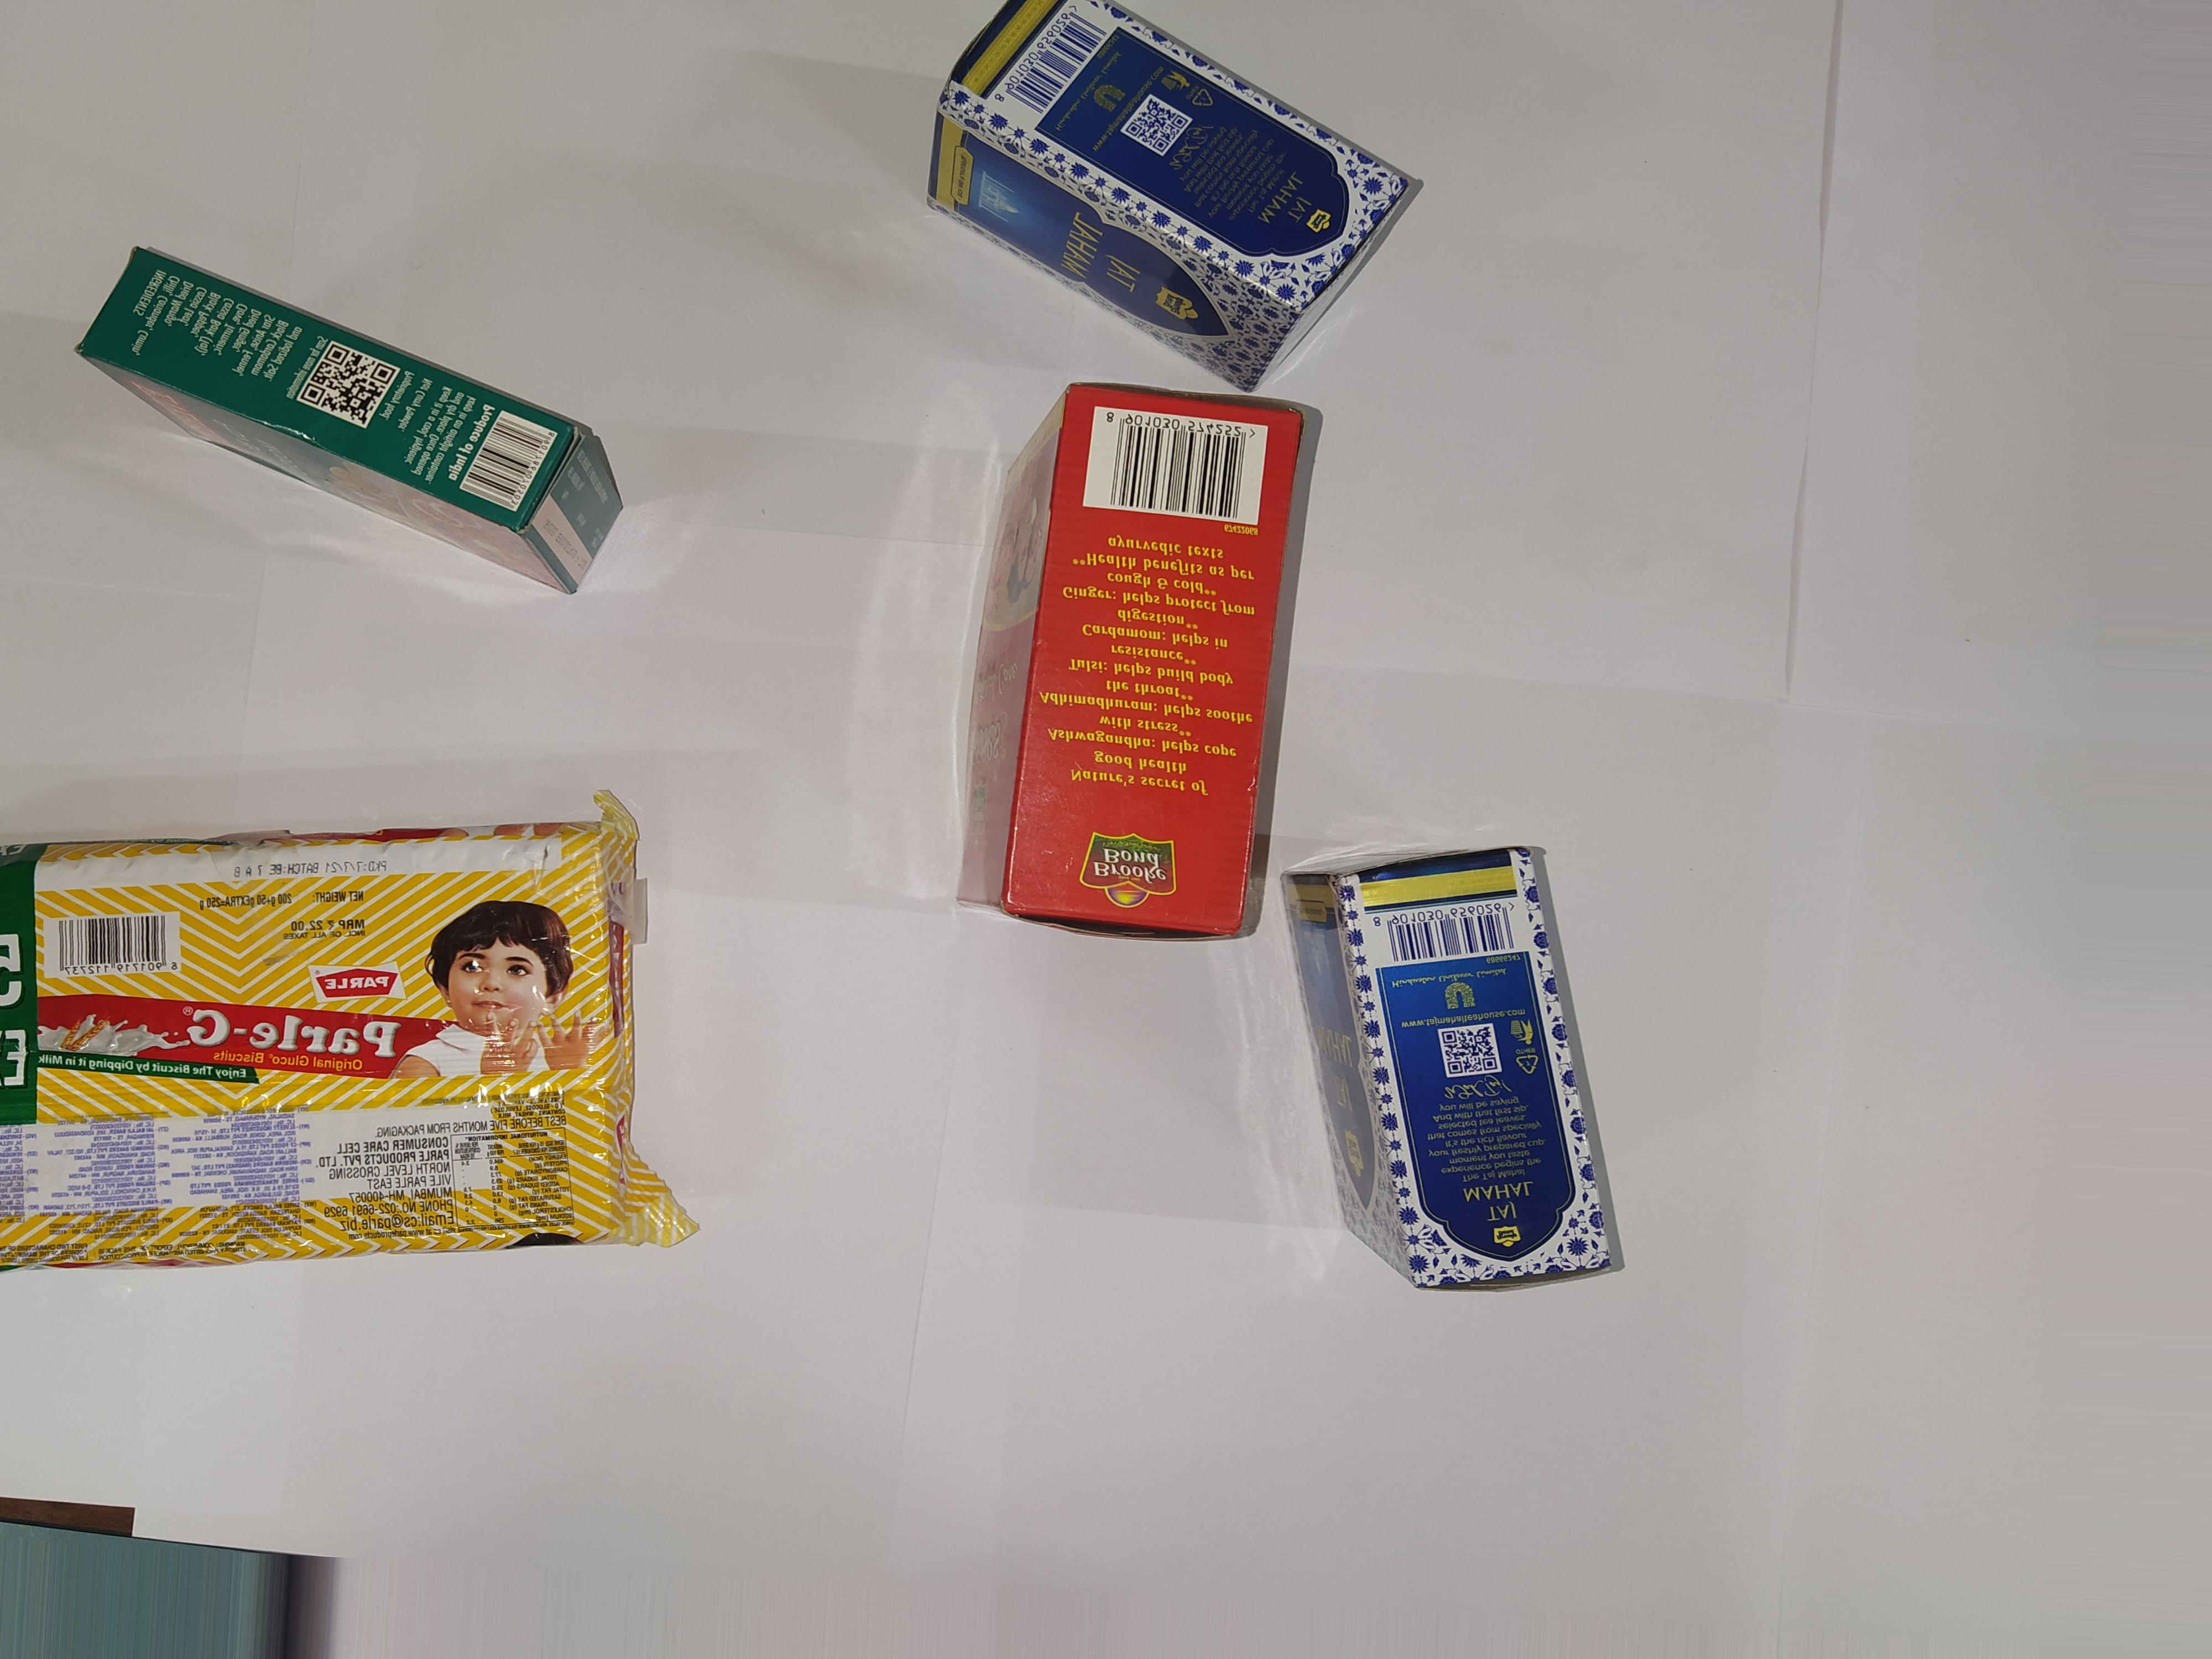Bar_code: (1071, 394, 1294, 544), (991, 5, 1134, 131), (462, 406, 578, 523), (44, 913, 204, 988), (1366, 906, 1529, 960)
Item: (12, 823, 712, 1281), (54, 227, 693, 657), (852, 3, 1524, 385), (1277, 838, 1683, 1342), (970, 375, 1291, 988)
QR_code: (298, 322, 432, 451), (1122, 89, 1207, 160), (1437, 1019, 1507, 1089)
